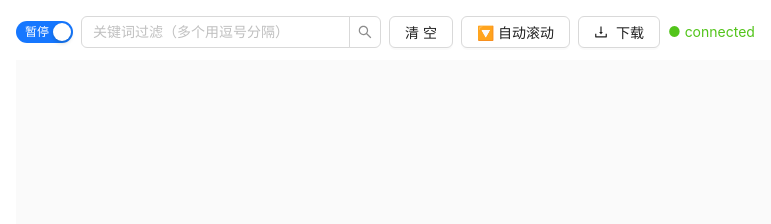
Test: LogStreamView › L5: download dropdown contains 4 options for 1h/6h/24h/72h
Click the button with test id "btn-download": (619, 32) [578,16,660,48]
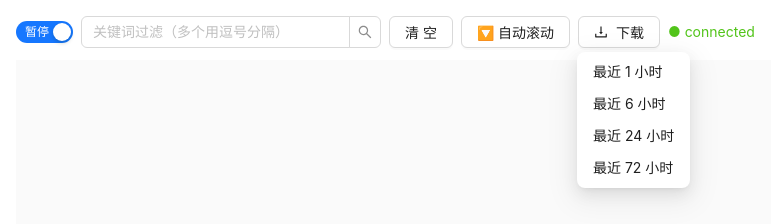
Now the text "最近 1 小时" is shown, box [593,61,674,83]
Now the text "最近 6 小时" is shown, box [593,93,674,115]
Now the text "最近 24 小时" is shown, box [593,125,674,147]
